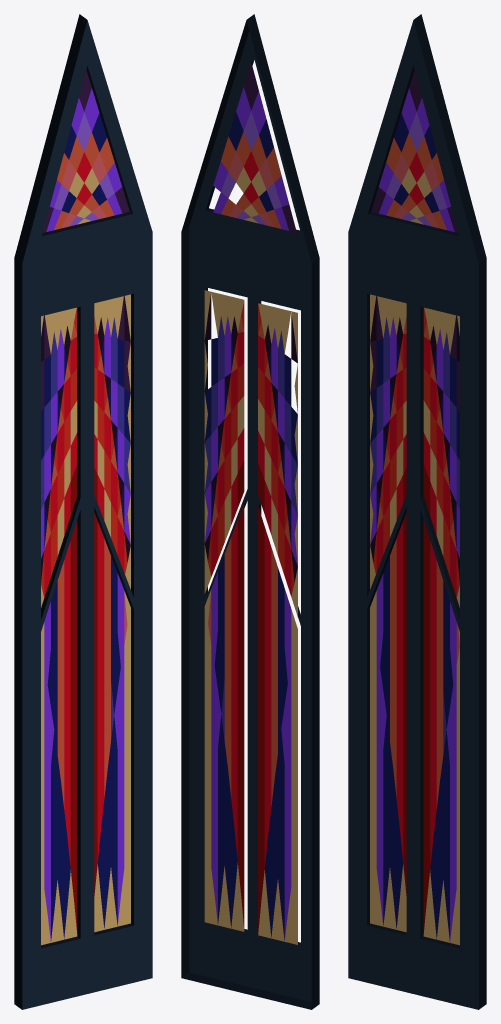
File: Fenster.010.fbx
3 views of the same model, side by side, from view 1: azimuth 30°, elevation 25°; view 2: azimuth 150°, elevation 25°; view 3: azimuth 330°, elevation 25° (orthographic).
Visible parts, largest first — view 1: Fenster.020; view 2: Fenster.020; view 3: Fenster.020.
Boxes of the visible parts, x1,y1,x2,y2 form: Fenster.020: [14, 14, 152, 1009]; Fenster.020: [181, 14, 319, 1009]; Fenster.020: [348, 14, 486, 1009].
Size of the model in its own units: 651 by 4646 by 68.92.
